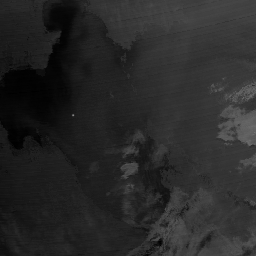Target: (70, 112, 75, 117)
